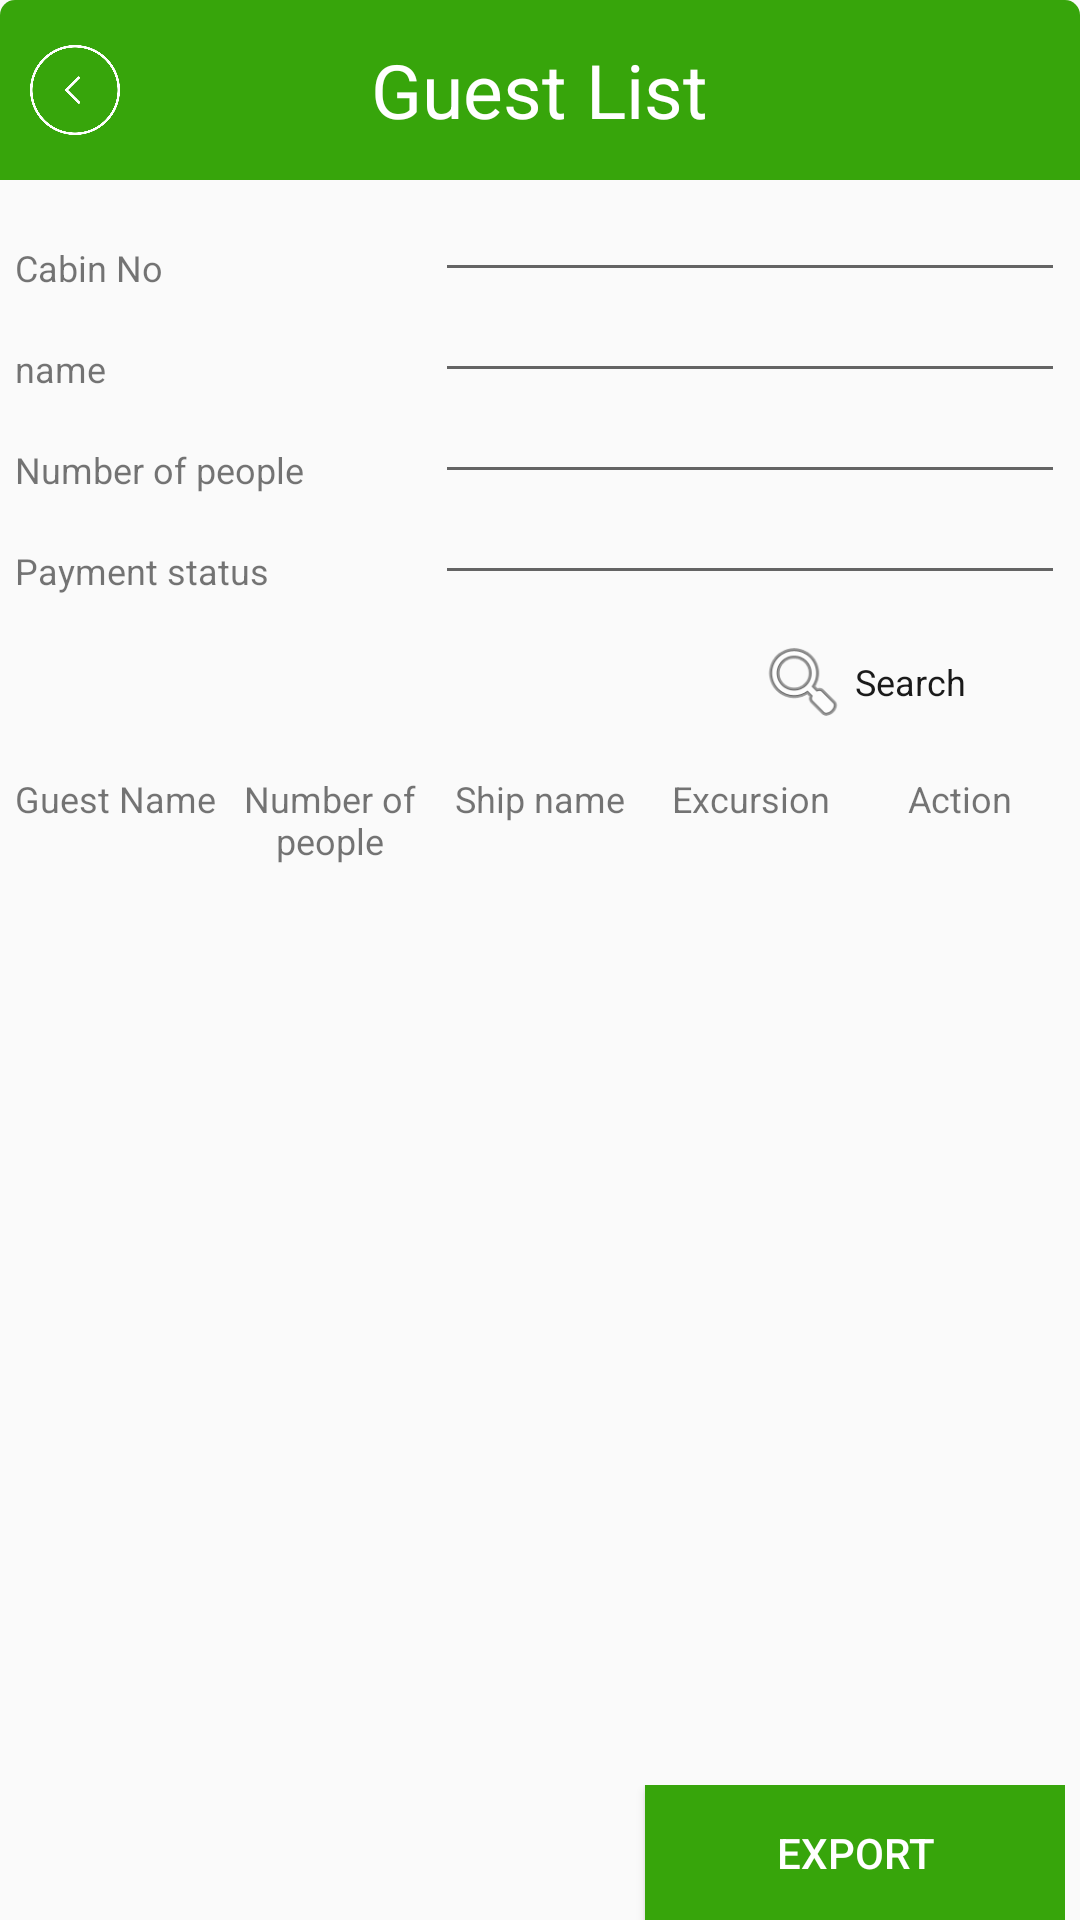

Icons on this 1080px x 1920px Android screen, each with the point to tap as [x,y]:
back: [75,90]
